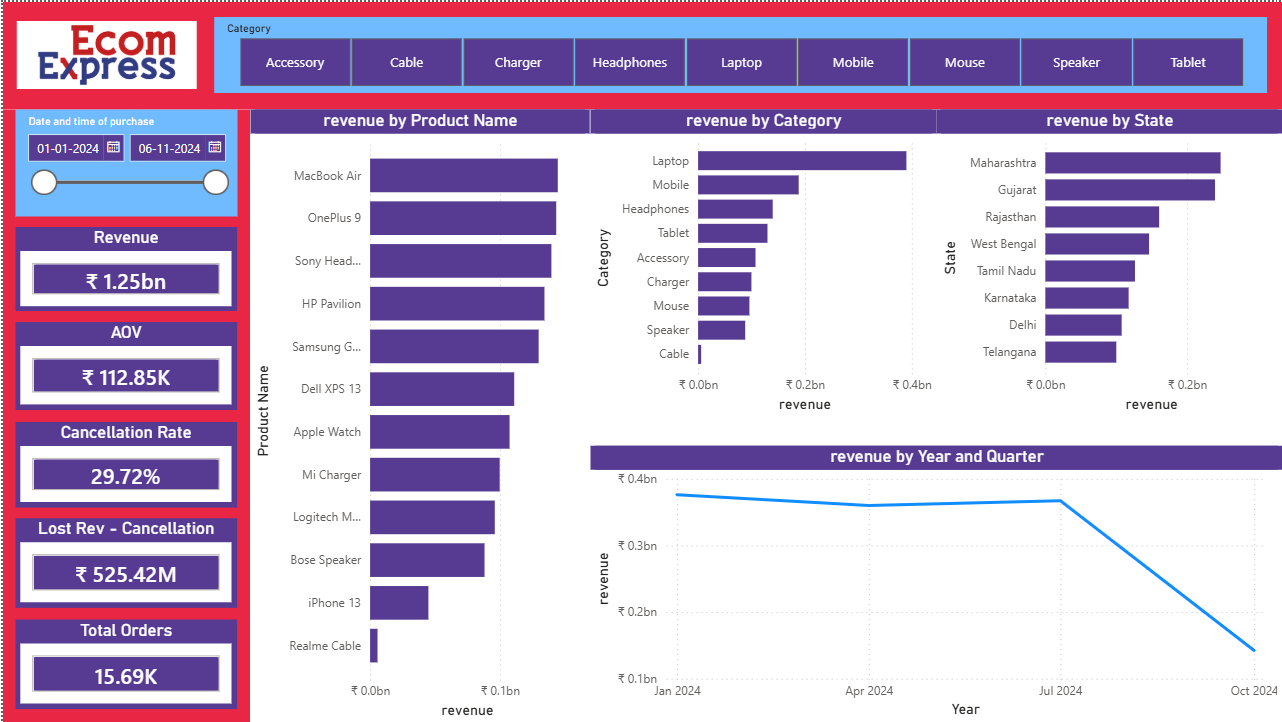

Layout of this report page (visuals, bound fields, positions):
{"tool":"powerbi","page":{"name":"Page 1","canvas":[1280,720],"ordinal":0},"visuals":[{"type":"shape","box":[0,0,1280.3,107.6],"z":0},{"type":"shape","box":[0,107.6,247,612.6],"z":1},{"type":"image","box":[13.5,14.7,179.8,75.8],"z":2},{"type":"barChart","fields":{"Y":["Table.revenue"],"Category":["Products.Product Name"]},"box":[247.7,107.1,339.5,613.6],"z":3},{"type":"barChart","fields":{"Y":["Table.revenue"],"Category":["Products.Category"]},"box":[587.1,107.1,346.4,307.5],"z":5},{"type":"lineChart","fields":{"Category":["Orders.Date and time of purchase.Variation.Date Hierarchy.Year","Orders.Date and time of purchase.Variation.Date Hierarchy.Quarter","Orders.Date and time of purchase.Variation.Date Hierarchy.Month","Orders.Date and time of purchase.Variation.Date Hierarchy.Day"],"Y":["Table.revenue"]},"box":[587.1,443.8,692.9,276.9],"z":6},{"type":"barChart","fields":{"Category":["Customers.State"],"Y":["Table.revenue"]},"box":[933.6,107.1,346.4,307.5],"z":7},{"type":"slicer","fields":{"Values":["Products.Category"]},"box":[211.6,14.7,1052.9,75.8],"z":8},{"type":"cardVisual","title":"Revenue","fields":{"Data":["Table.revenue"]},"box":[12.2,225,221.3,84.4],"z":9},{"type":"cardVisual","title":"AOV","fields":{"Data":["Table.AOV"]},"box":[12.2,320.4,221.3,88],"z":10},{"type":"cardVisual","title":"Lost Rev - Cancellation","fields":{"Data":["Table.lost_rev_cancellation"]},"box":[12.2,516,221.3,89.3],"z":11},{"type":"cardVisual","title":"Cancellation Rate","fields":{"Data":["Table.cancellation rate"]},"box":[12.2,419.4,221.3,85.6],"z":12},{"type":"cardVisual","title":"Total Orders","fields":{"Data":["CountNonNull(Orders.OrderID)"]},"box":[12.2,617.5,221.3,89.3],"z":13},{"type":"slicer","fields":{"Values":["Orders.Date and time of purchase"]},"box":[12.2,107.6,221.3,106.4],"z":14}]}

Visuals, with their boxes in screenshot pixels (x1, y1, x2, y2), scaled from the page's 1280x720 canvas onto the 1282x722 screenshot:
shape: <region>0, 0, 1281, 108</region>
shape: <region>0, 108, 247, 721</region>
image: <region>14, 15, 194, 91</region>
barChart - Table.revenue x Products.Product Name: <region>248, 107, 588, 721</region>
barChart - Table.revenue x Products.Category: <region>588, 107, 935, 416</region>
lineChart - Orders.Date and time of purchase.Variation.Date Hierarchy.Year x Orders.Date and time of purchase.Variation.Date Hierarchy.Quarter: <region>588, 445, 1281, 721</region>
barChart - Customers.State x Table.revenue: <region>935, 107, 1281, 416</region>
slicer - Products.Category: <region>212, 15, 1266, 91</region>
"Revenue" cardVisual: <region>12, 226, 234, 310</region>
"AOV" cardVisual: <region>12, 321, 234, 410</region>
"Lost Rev - Cancellation" cardVisual: <region>12, 517, 234, 607</region>
"Cancellation Rate" cardVisual: <region>12, 421, 234, 506</region>
"Total Orders" cardVisual: <region>12, 619, 234, 709</region>
slicer - Orders.Date and time of purchase: <region>12, 108, 234, 215</region>
